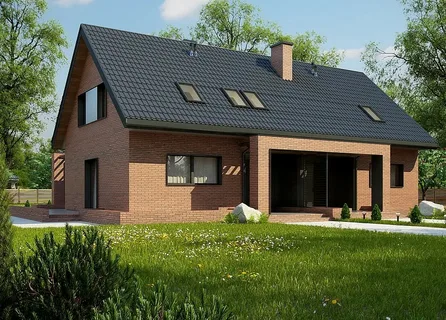private_hause: (52, 32, 421, 218)
